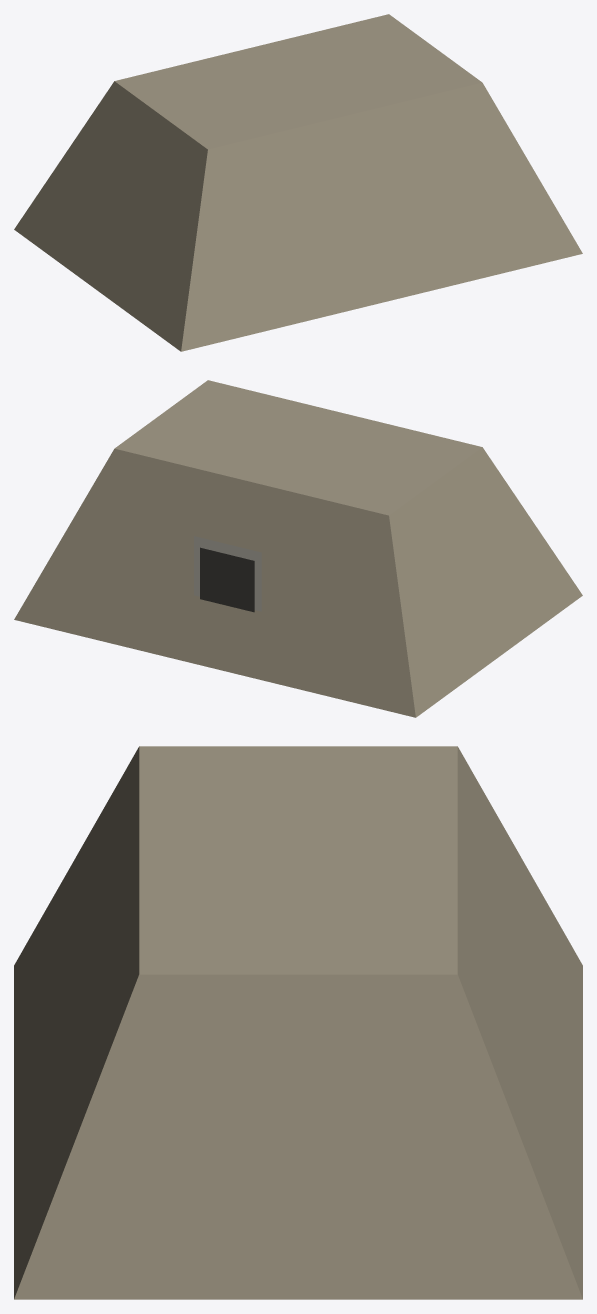
The model's file is fort_dearborn_root_house__cellar_1816.glb.
3 views of the same model, one above another, from view 1: azimuth 30°, elevation 25°; view 2: azimuth 150°, elevation 25°; view 3: azimuth 270°, elevation 25° (orthographic). The views are drawn at different scales.
Visible parts, largest first — view 1: fort_dearborn_root_house__cellar_1816; view 2: fort_dearborn_root_house__cellar_1816; view 3: fort_dearborn_root_house__cellar_1816.
Boxes of the visible parts, x1=… form: fort_dearborn_root_house__cellar_1816: x1=14, y1=14, x2=582, y2=351; fort_dearborn_root_house__cellar_1816: x1=14, y1=380, x2=582, y2=717; fort_dearborn_root_house__cellar_1816: x1=14, y1=746, x2=582, y2=1299.
Bounding box in the file's own units: 5 × 1.9 × 3.6.
